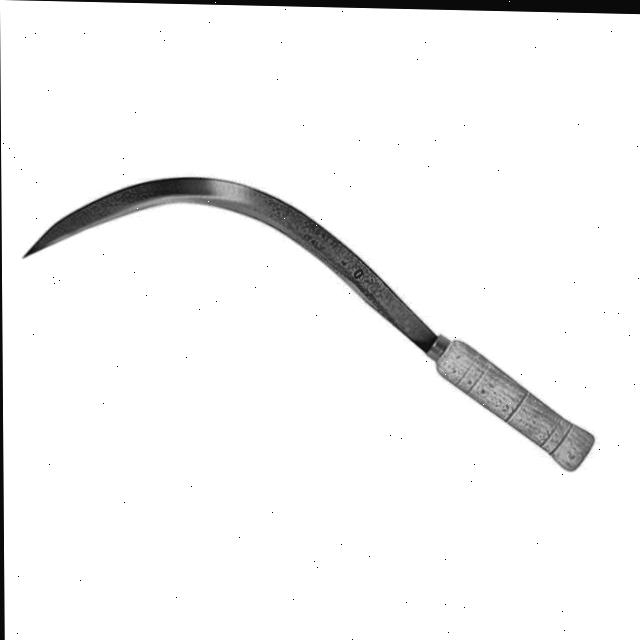celurit: (15, 158, 606, 477)
